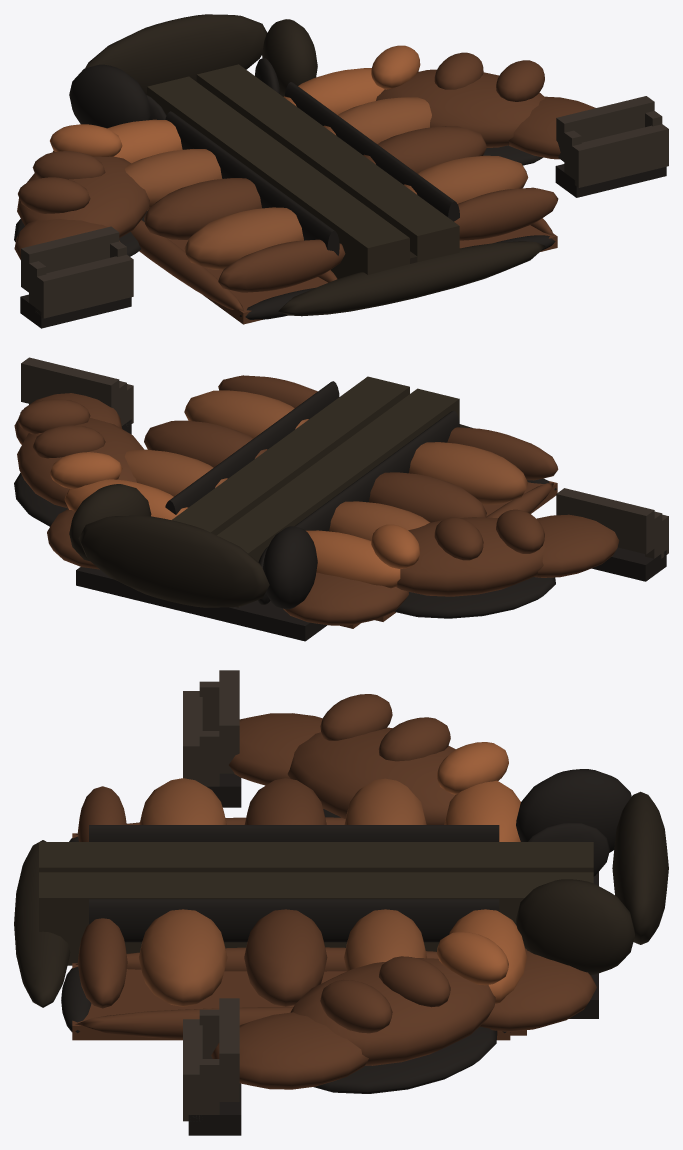
Rendered from CMU3DCivilianJacketOrangePufferJacketWorldCloud.glb.
The picture shows the model from 3 angles, top to bottom: view 1: azimuth 30°, elevation 25°; view 2: azimuth 150°, elevation 25°; view 3: azimuth 270°, elevation 25°; orthographic projection. The views are drawn at different scales.
Visible parts, largest first — view 1: broad left centre placket, broad right centre placket, rear collar roll, short dark elastic bottom hem, right soft upper sleeve, left inflated stitched channel 4, left inflated stitched channel 3, left inflated stitched channel 5, left cuff outer bottom fold, right cuff outer bottom fold, left soft upper sleeve, left standing collar (+29 smaller); view 2: rear collar roll, broad left centre placket, broad right centre placket, left soft upper sleeve, left inflated stitched channel 4, left connected shoulder yoke, recessed source-visible neck lining, left outward forearm fold, left inflated stitched channel 3, right front facing seam, left standing collar, left sleeve underside (+25 smaller); view 3: broad left centre placket, broad right centre placket, right front facing seam, right soft upper sleeve, right standing collar, left soft upper sleeve, right outward forearm fold, left front facing seam, right inflated stitched channel 4, rear collar roll, right inflated stitched channel 3, left standing collar (+33 smaller).
Part boxes in pixels (<box>): broad left centre placket: <box>147,76,409,278</box>; broad right centre placket: <box>196,64,459,261</box>; rear collar roll: <box>85,14,267,94</box>; short dark elastic bottom hem: <box>278,241,545,316</box>; right soft upper sleeve: <box>376,69,544,147</box>; left inflated stitched channel 4: <box>184,207,303,269</box>; left inflated stitched channel 3: <box>144,178,261,239</box>; left inflated stitched channel 5: <box>218,239,345,292</box>; left cuff outer bottom fold: <box>35,255,133,318</box>; right cuff outer bottom fold: <box>572,124,668,187</box>; left soft upper sleeve: <box>17,156,149,237</box>; left standing collar: <box>69,64,151,128</box>; rear collar roll: <box>78,515,269,607</box>; broad left centre placket: <box>217,388,459,607</box>; broad right centre placket: <box>171,376,409,535</box>; left soft upper sleeve: <box>396,517,545,596</box>; left inflated stitched channel 4: <box>409,442,527,504</box>; left connected shoulder yoke: <box>283,572,408,625</box>; recessed source-visible neck lining: <box>76,567,327,641</box>; left outward forearm fold: <box>534,514,619,577</box>; left inflated stitched channel 3: <box>369,472,486,522</box>; right front facing seam: <box>165,381,339,514</box>; left standing collar: <box>262,526,317,609</box>; left sleeve underside: <box>394,577,555,618</box>; broad left centre placket: <box>39,842,593,872</box>; broad right centre placket: <box>39,872,593,965</box>; right front facing seam: <box>89,899,499,942</box>; right soft upper sleeve: <box>290,958,495,1065</box>; right standing collar: <box>516,879,634,975</box>; left soft upper sleeve: <box>287,727,455,824</box>; right outward forearm fold: <box>211,1012,368,1089</box>; left front facing seam: <box>89,825,499,841</box>; right inflated stitched channel 4: <box>139,909,227,1006</box>; rear collar roll: <box>612,791,668,944</box>; right inflated stitched channel 3: <box>244,909,327,1006</box>; left standing collar: <box>516,769,631,852</box>.
Size of the model in its own units: 0.5112 by 0.084 by 0.3691.
